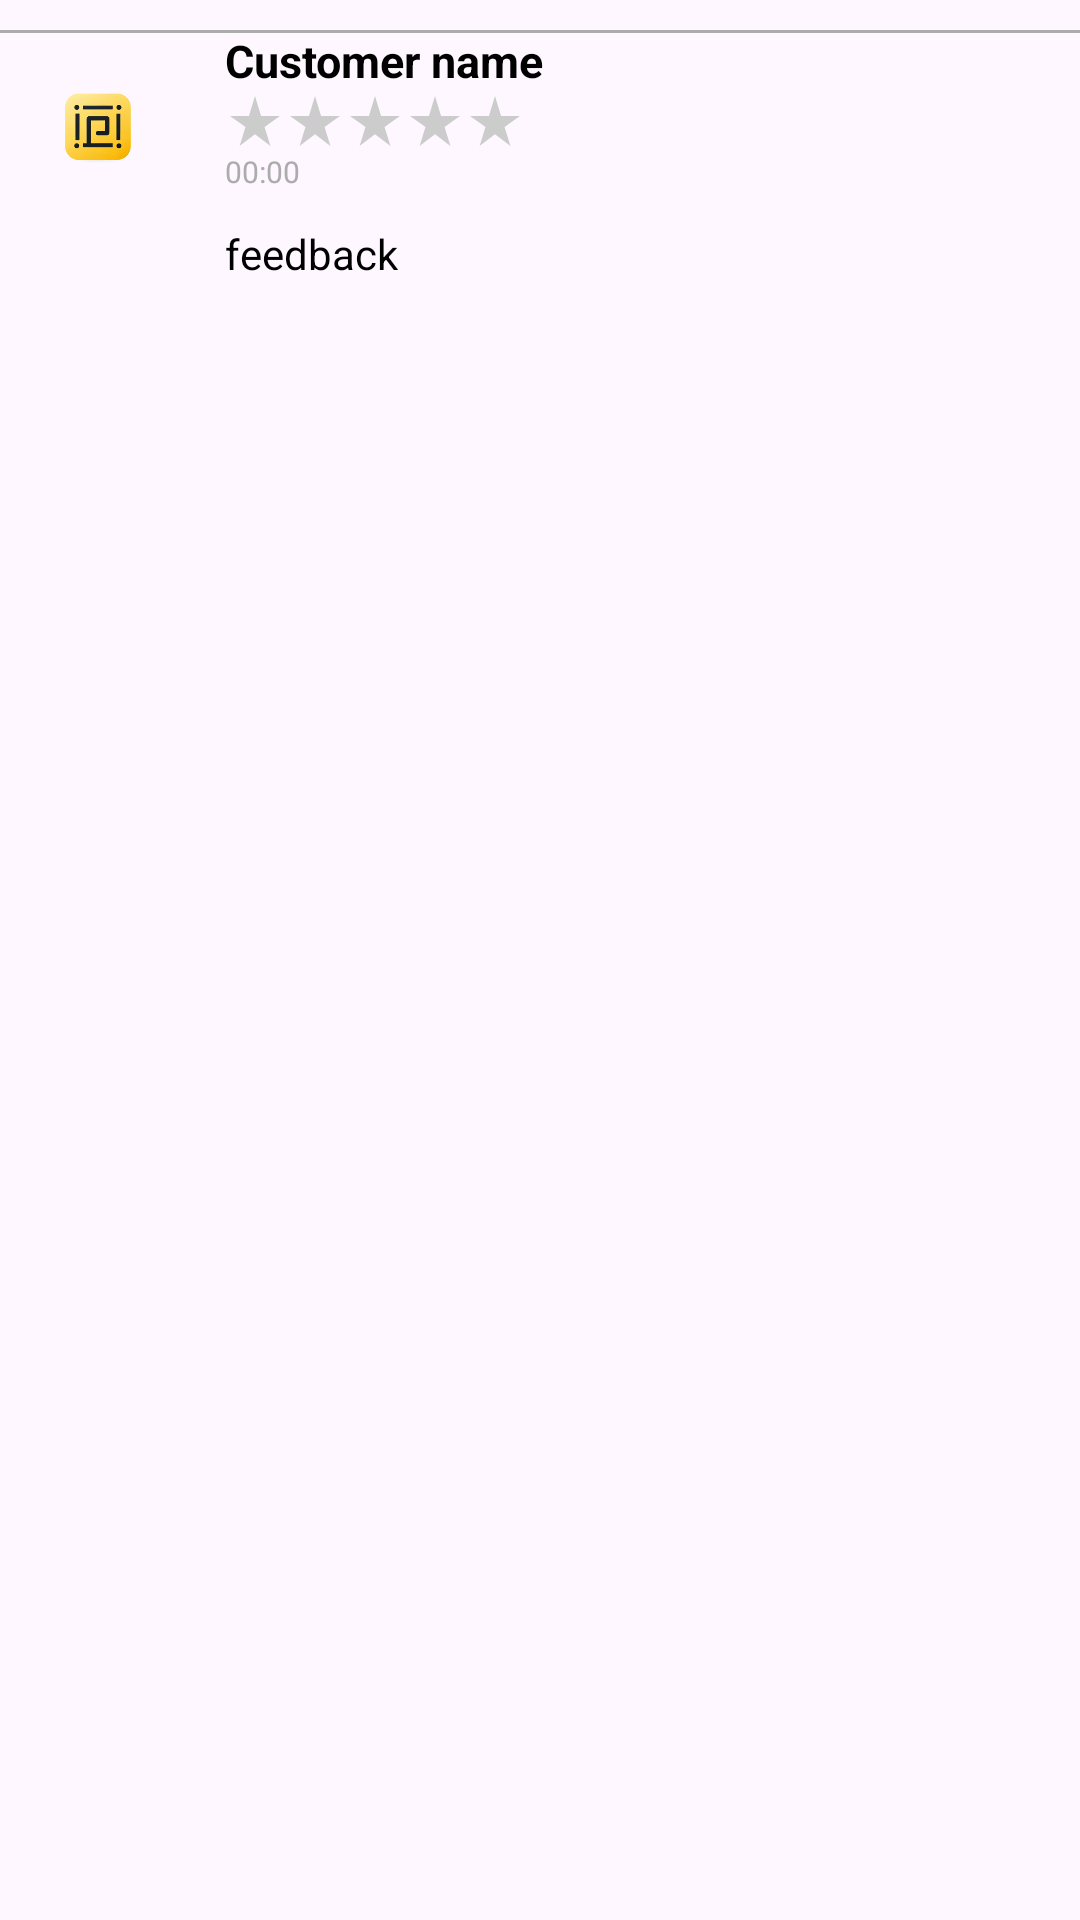

Where to tap for icons on this 1080 x 1920 app screen, as point (x, y):
Star 1: point (255, 121)
Star 2: point (315, 121)
Star 3: point (375, 121)
Star 4: point (435, 121)
Star 5: point (495, 121)
